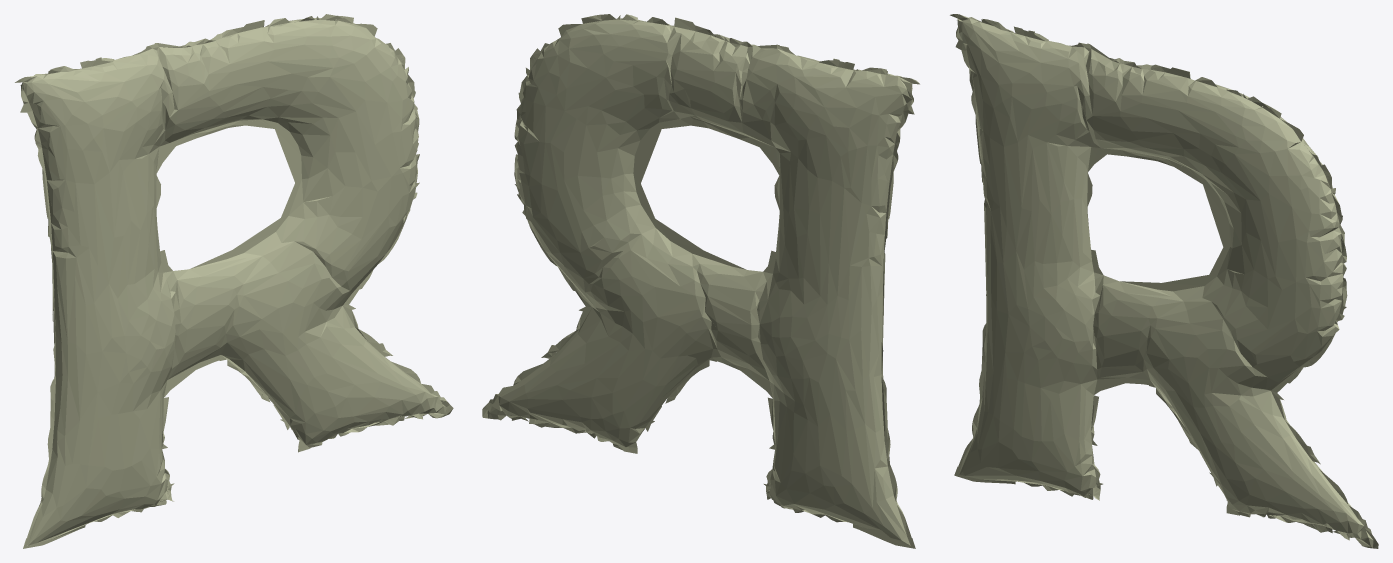
Rendered from tinker.obj.
3 views of the same model, side by side, from view 1: azimuth 30°, elevation 25°; view 2: azimuth 150°, elevation 25°; view 3: azimuth 330°, elevation 25° (orthographic). The views are drawn at different scales.
Visible parts, largest first — view 1: obj_0; view 2: obj_0; view 3: obj_0.
Part boxes in pixels (x1=…): obj_0: x1=15, y1=14, x2=453, y2=548; obj_0: x1=482, y1=14, x2=919, y2=548; obj_0: x1=950, y1=14, x2=1378, y2=548.
Bounding box in the file's own units: 15.46 × 15.95 × 1.71.
